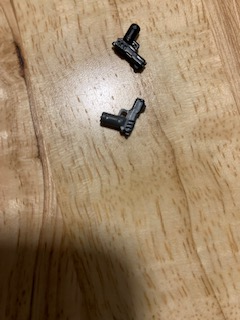pistol: (97, 94, 147, 139), (111, 23, 150, 72)
